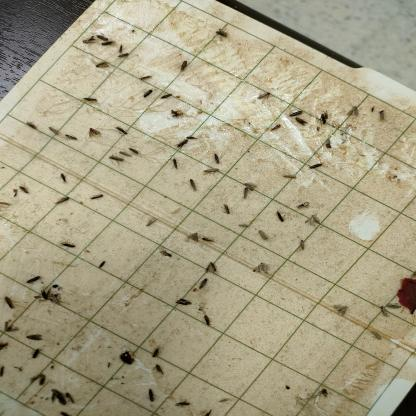prays_oleae: (35, 288, 69, 315), (285, 104, 313, 128), (377, 304, 407, 325), (179, 221, 199, 252), (58, 130, 84, 151), (196, 274, 215, 299), (152, 363, 174, 384), (82, 35, 114, 49), (327, 307, 355, 321), (174, 56, 200, 71), (3, 290, 17, 316), (111, 122, 131, 140), (80, 90, 98, 110), (174, 132, 194, 150), (252, 258, 272, 276), (46, 122, 61, 146), (144, 214, 165, 230), (186, 177, 201, 199), (206, 259, 224, 277), (2, 320, 20, 338), (255, 222, 269, 245), (54, 196, 75, 211), (174, 290, 191, 308), (32, 322, 49, 340), (27, 346, 44, 363), (158, 243, 174, 261), (145, 386, 157, 410), (59, 235, 78, 250), (116, 47, 134, 62), (174, 395, 192, 410), (25, 273, 45, 286), (213, 26, 230, 41), (165, 110, 179, 128), (308, 160, 322, 178), (218, 200, 231, 219), (21, 181, 34, 200), (86, 124, 101, 140), (204, 169, 219, 185), (95, 56, 109, 73), (272, 211, 285, 229), (237, 223, 250, 240), (109, 156, 127, 168), (268, 118, 282, 133), (142, 89, 158, 102), (57, 174, 74, 186), (198, 314, 215, 326), (296, 239, 308, 256), (294, 200, 316, 209), (310, 218, 326, 230), (118, 147, 134, 158), (23, 121, 39, 132), (253, 89, 272, 98), (130, 141, 142, 155), (243, 179, 257, 191), (351, 101, 360, 119), (169, 156, 180, 170), (92, 191, 110, 199), (198, 237, 218, 244), (278, 171, 293, 180), (239, 186, 248, 200), (212, 156, 226, 164)
